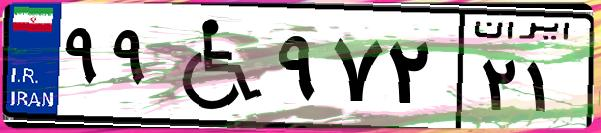1: (525, 38, 570, 115)
2: (385, 28, 445, 110), (475, 38, 525, 113)
7: (330, 28, 385, 110)
9: (270, 28, 330, 110), (57, 26, 110, 100), (110, 28, 158, 98)
ژ (معلولین و جانبازان): (158, 12, 270, 120)
